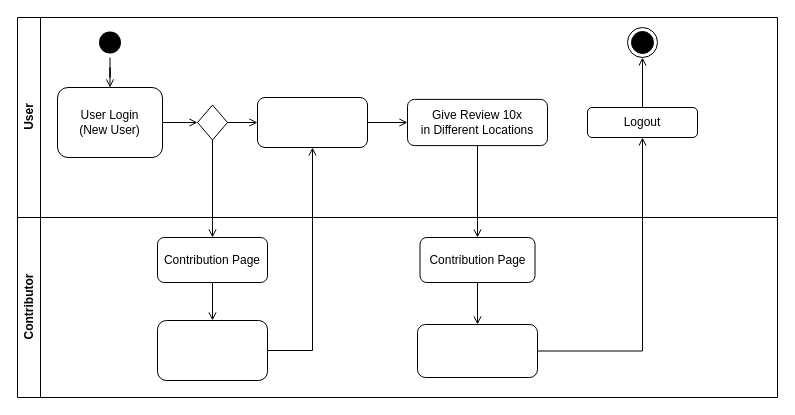
Some shapes in this 795 by 415 pixel diagram are drawn without their labels. Each missing label, with the box of its shape:
Explore Page: (256, 96, 368, 148)
Insert New Place or Manage Own Places: (416, 324, 538, 378)
Show Warning "Can't Add New Place": (156, 320, 268, 380)
